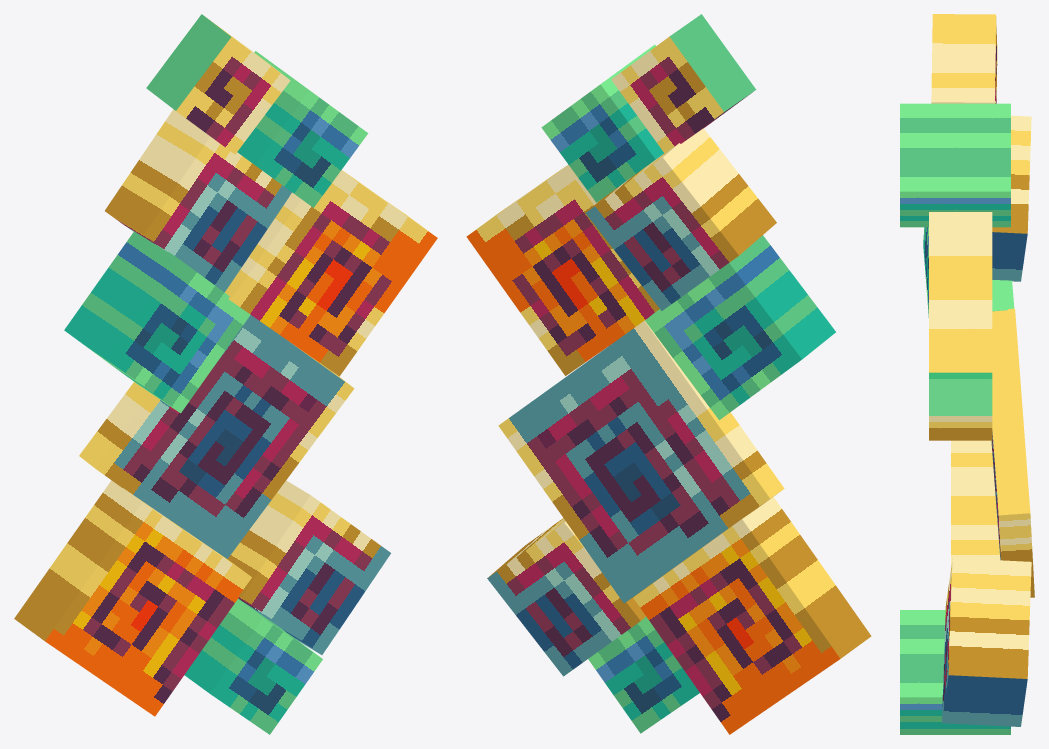
File: Portal.glb
3 renders of one model, left to right at view 1: azimuth 30°, elevation 25°; view 2: azimuth 150°, elevation 25°; view 3: azimuth 270°, elevation 25°, orthographic. The views are drawn at different scales.
Parts seen in each view (by area): view 1: Object_28, Object_34, Object_31, Object_19, Object_22.001, Object_22, Object_10.001, Object_13.001, Object_13; view 2: Object_28, Object_34, Object_31, Object_22.001, Object_19, Object_22, Object_10.001, Object_13, Object_13.001; view 3: Object_31, Object_22, Object_13, Object_28, Object_13.001, Object_10.001, Object_34, Object_22.001, Object_19.
Boxes of the visible parts, x1=… form: Object_28: x1=79, y1=315, x2=354, y2=558; Object_34: x1=14, y1=480, x2=251, y2=716; Object_31: x1=225, y1=170, x2=437, y2=376; Object_19: x1=64, y1=231, x2=250, y2=413; Object_22.001: x1=105, y1=109, x2=291, y2=292; Object_22: x1=227, y1=480, x2=390, y2=654; Object_10.001: x1=146, y1=14, x2=290, y2=154; Object_13.001: x1=184, y1=598, x2=322, y2=734; Object_13: x1=237, y1=51, x2=368, y2=207; Object_28: x1=498, y1=320, x2=784, y2=603; Object_34: x1=633, y1=497, x2=871, y2=734; Object_31: x1=466, y1=164, x2=659, y2=375; Object_22.001: x1=585, y1=128, x2=776, y2=310; Object_19: x1=645, y1=235, x2=835, y2=420; Object_22: x1=487, y1=518, x2=645, y2=676; Object_10.001: x1=611, y1=14, x2=756, y2=153; Object_13: x1=541, y1=44, x2=663, y2=202; Object_13.001: x1=588, y1=616, x2=699, y2=733; Object_31: x1=929, y1=212, x2=992, y2=440; Object_22: x1=942, y1=558, x2=1031, y2=726; Object_13: x1=900, y1=103, x2=1010, y2=227; Object_28: x1=991, y1=308, x2=1034, y2=597; Object_13.001: x1=900, y1=610, x2=1010, y2=734; Object_10.001: x1=931, y1=14, x2=997, y2=103; Object_34: x1=951, y1=440, x2=1000, y2=567; Object_22.001: x1=992, y1=115, x2=1031, y2=281; Object_19: x1=923, y1=227, x2=1014, y2=317.
Bounding box in the file's own units: 1.79 × 3.09 × 0.5316.
Materials: 4 (4 with a texture image).
